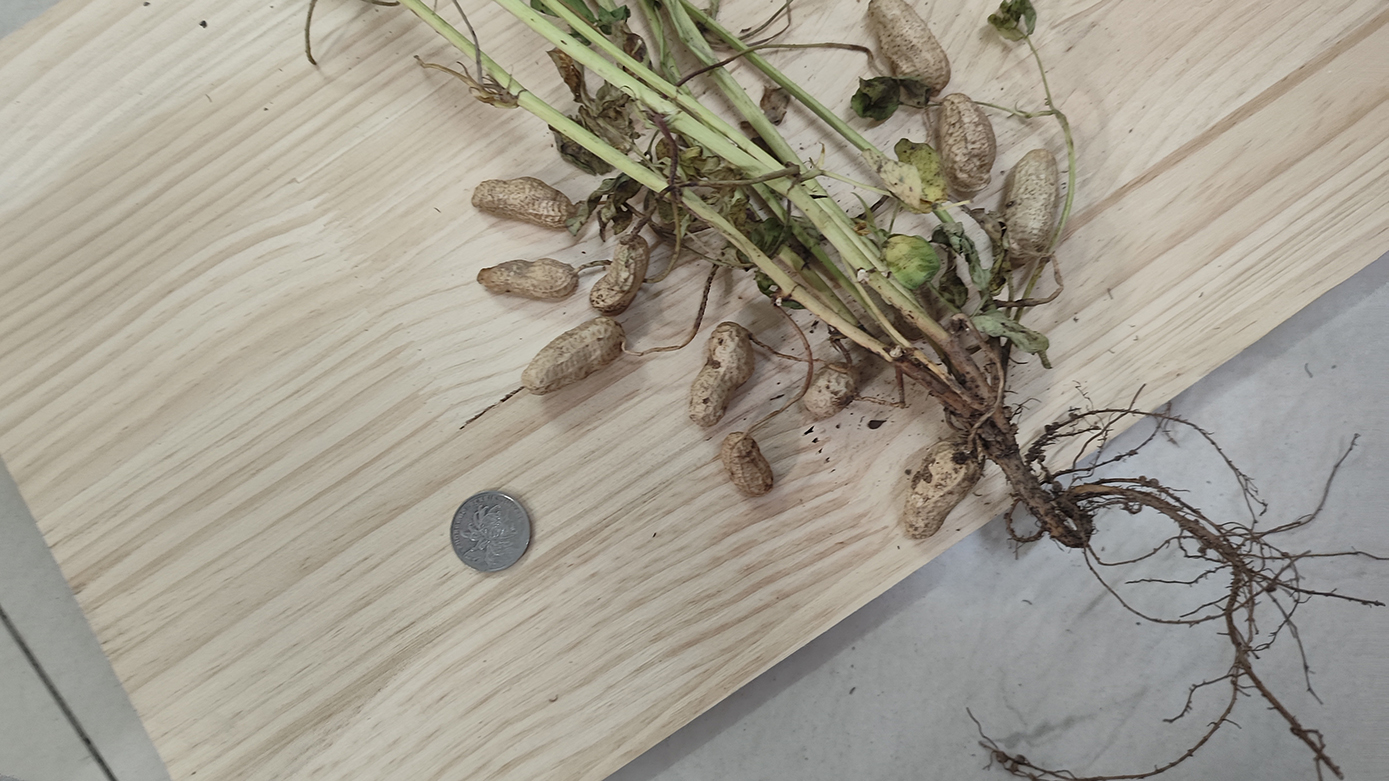h: (518, 317, 627, 396), (866, 1, 953, 95), (899, 439, 979, 541), (685, 321, 754, 425), (1000, 148, 1060, 259), (471, 175, 575, 230), (937, 93, 995, 189), (588, 233, 651, 311), (478, 257, 579, 304), (720, 430, 775, 498), (801, 361, 866, 416)
